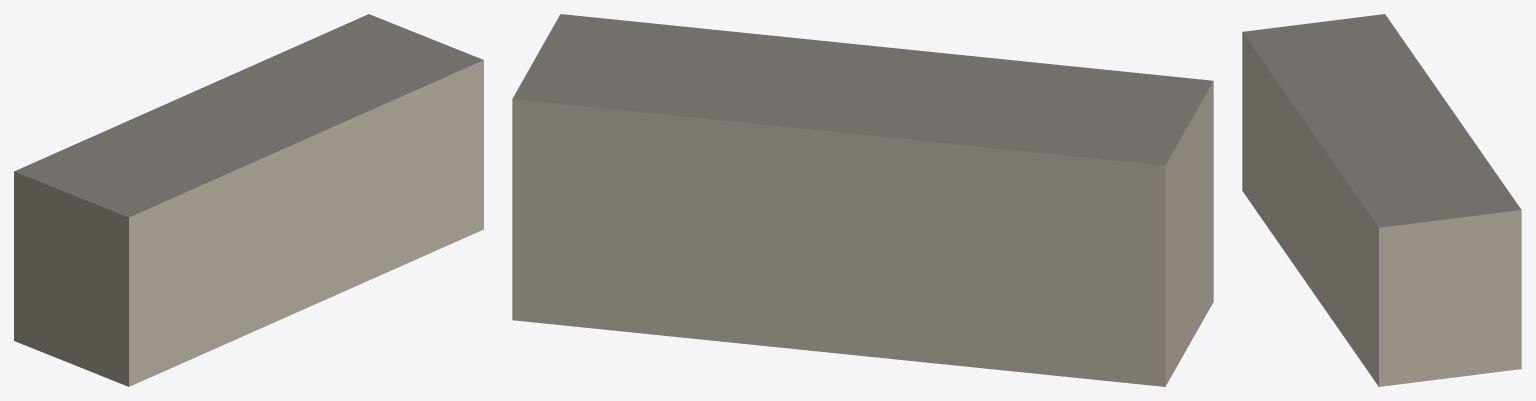
3 views of the same model, side by side, from view 1: azimuth 30°, elevation 25°; view 2: azimuth 150°, elevation 25°; view 3: azimuth 270°, elevation 25° (orthographic). The views are drawn at different scales.
Visible parts, largest first — view 1: HP-w859488671; view 2: HP-w859488671; view 3: HP-w859488671.
Part boxes in pixels (box(x1,y1,x2,y2)): HP-w859488671: box(14, 14, 483, 386); HP-w859488671: box(512, 14, 1213, 386); HP-w859488671: box(1242, 14, 1521, 386).
Size of the model in its own units: 51.87 by 18 by 28.62.
